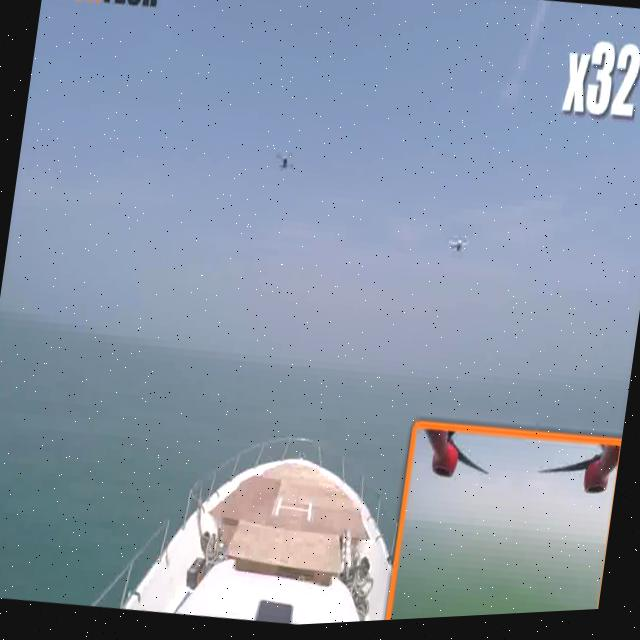drone: (261, 140, 301, 184), (444, 233, 480, 274)
